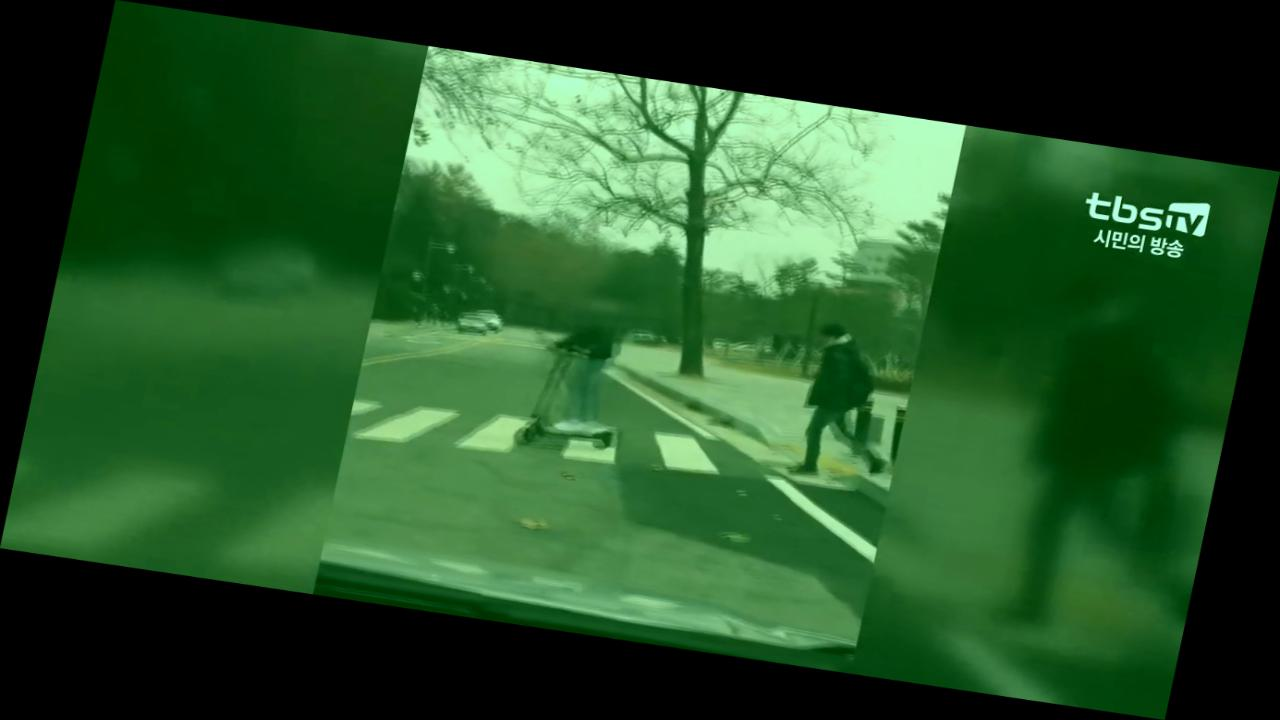nonhelmet: (507, 285, 651, 457)
